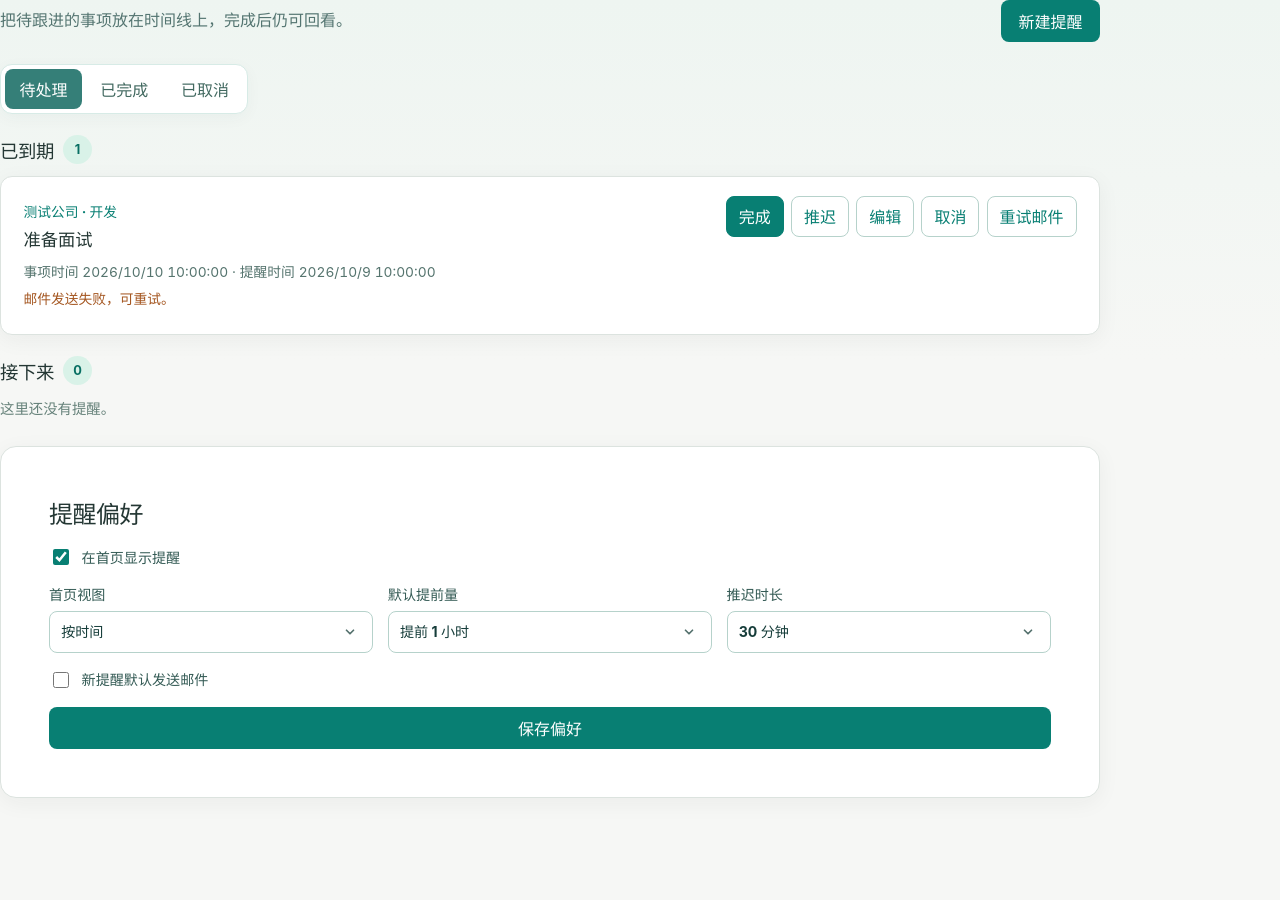
Test: snoozes a due reminder and retries failed email delivery
This screenshot has width=1280, height=900.
Click the button "推迟" at (820, 216), box x1=791 y1=196 x2=849 y2=237
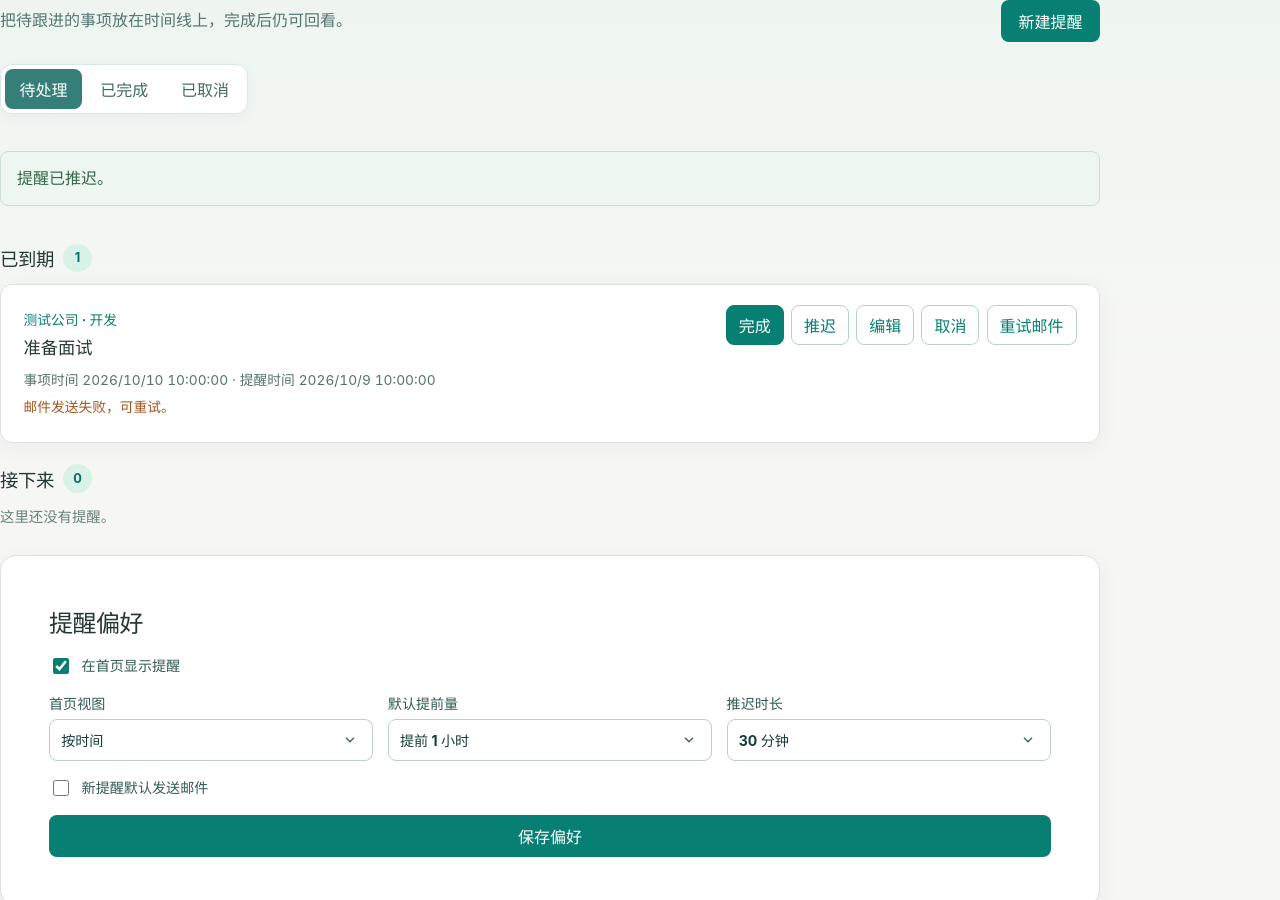
Click the button "重试邮件" at (1032, 325), box x1=987 y1=304 x2=1077 y2=345
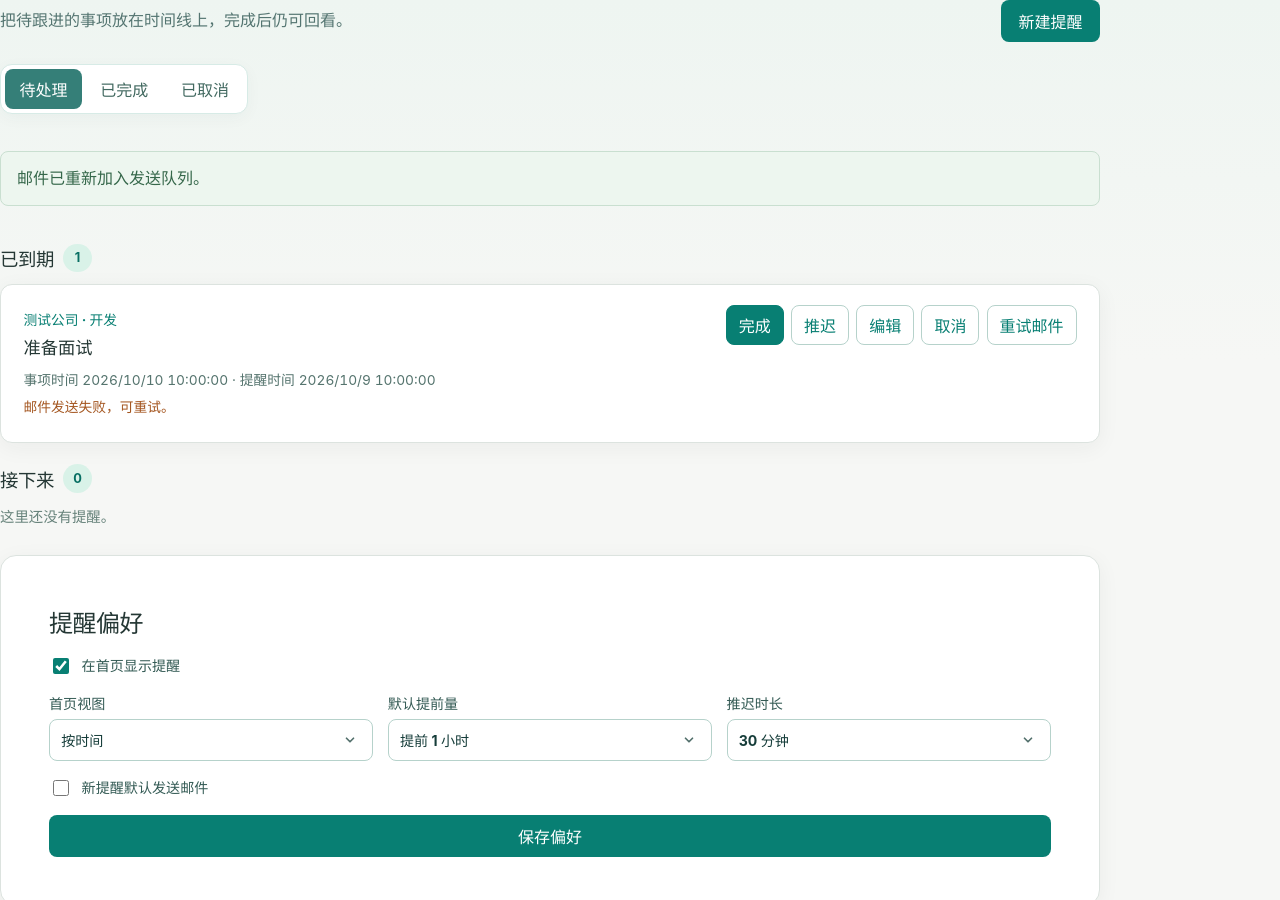
Expected: the text "邮件已重新加入发送队列。" is shown, x1=0 y1=151 x2=1100 y2=206
